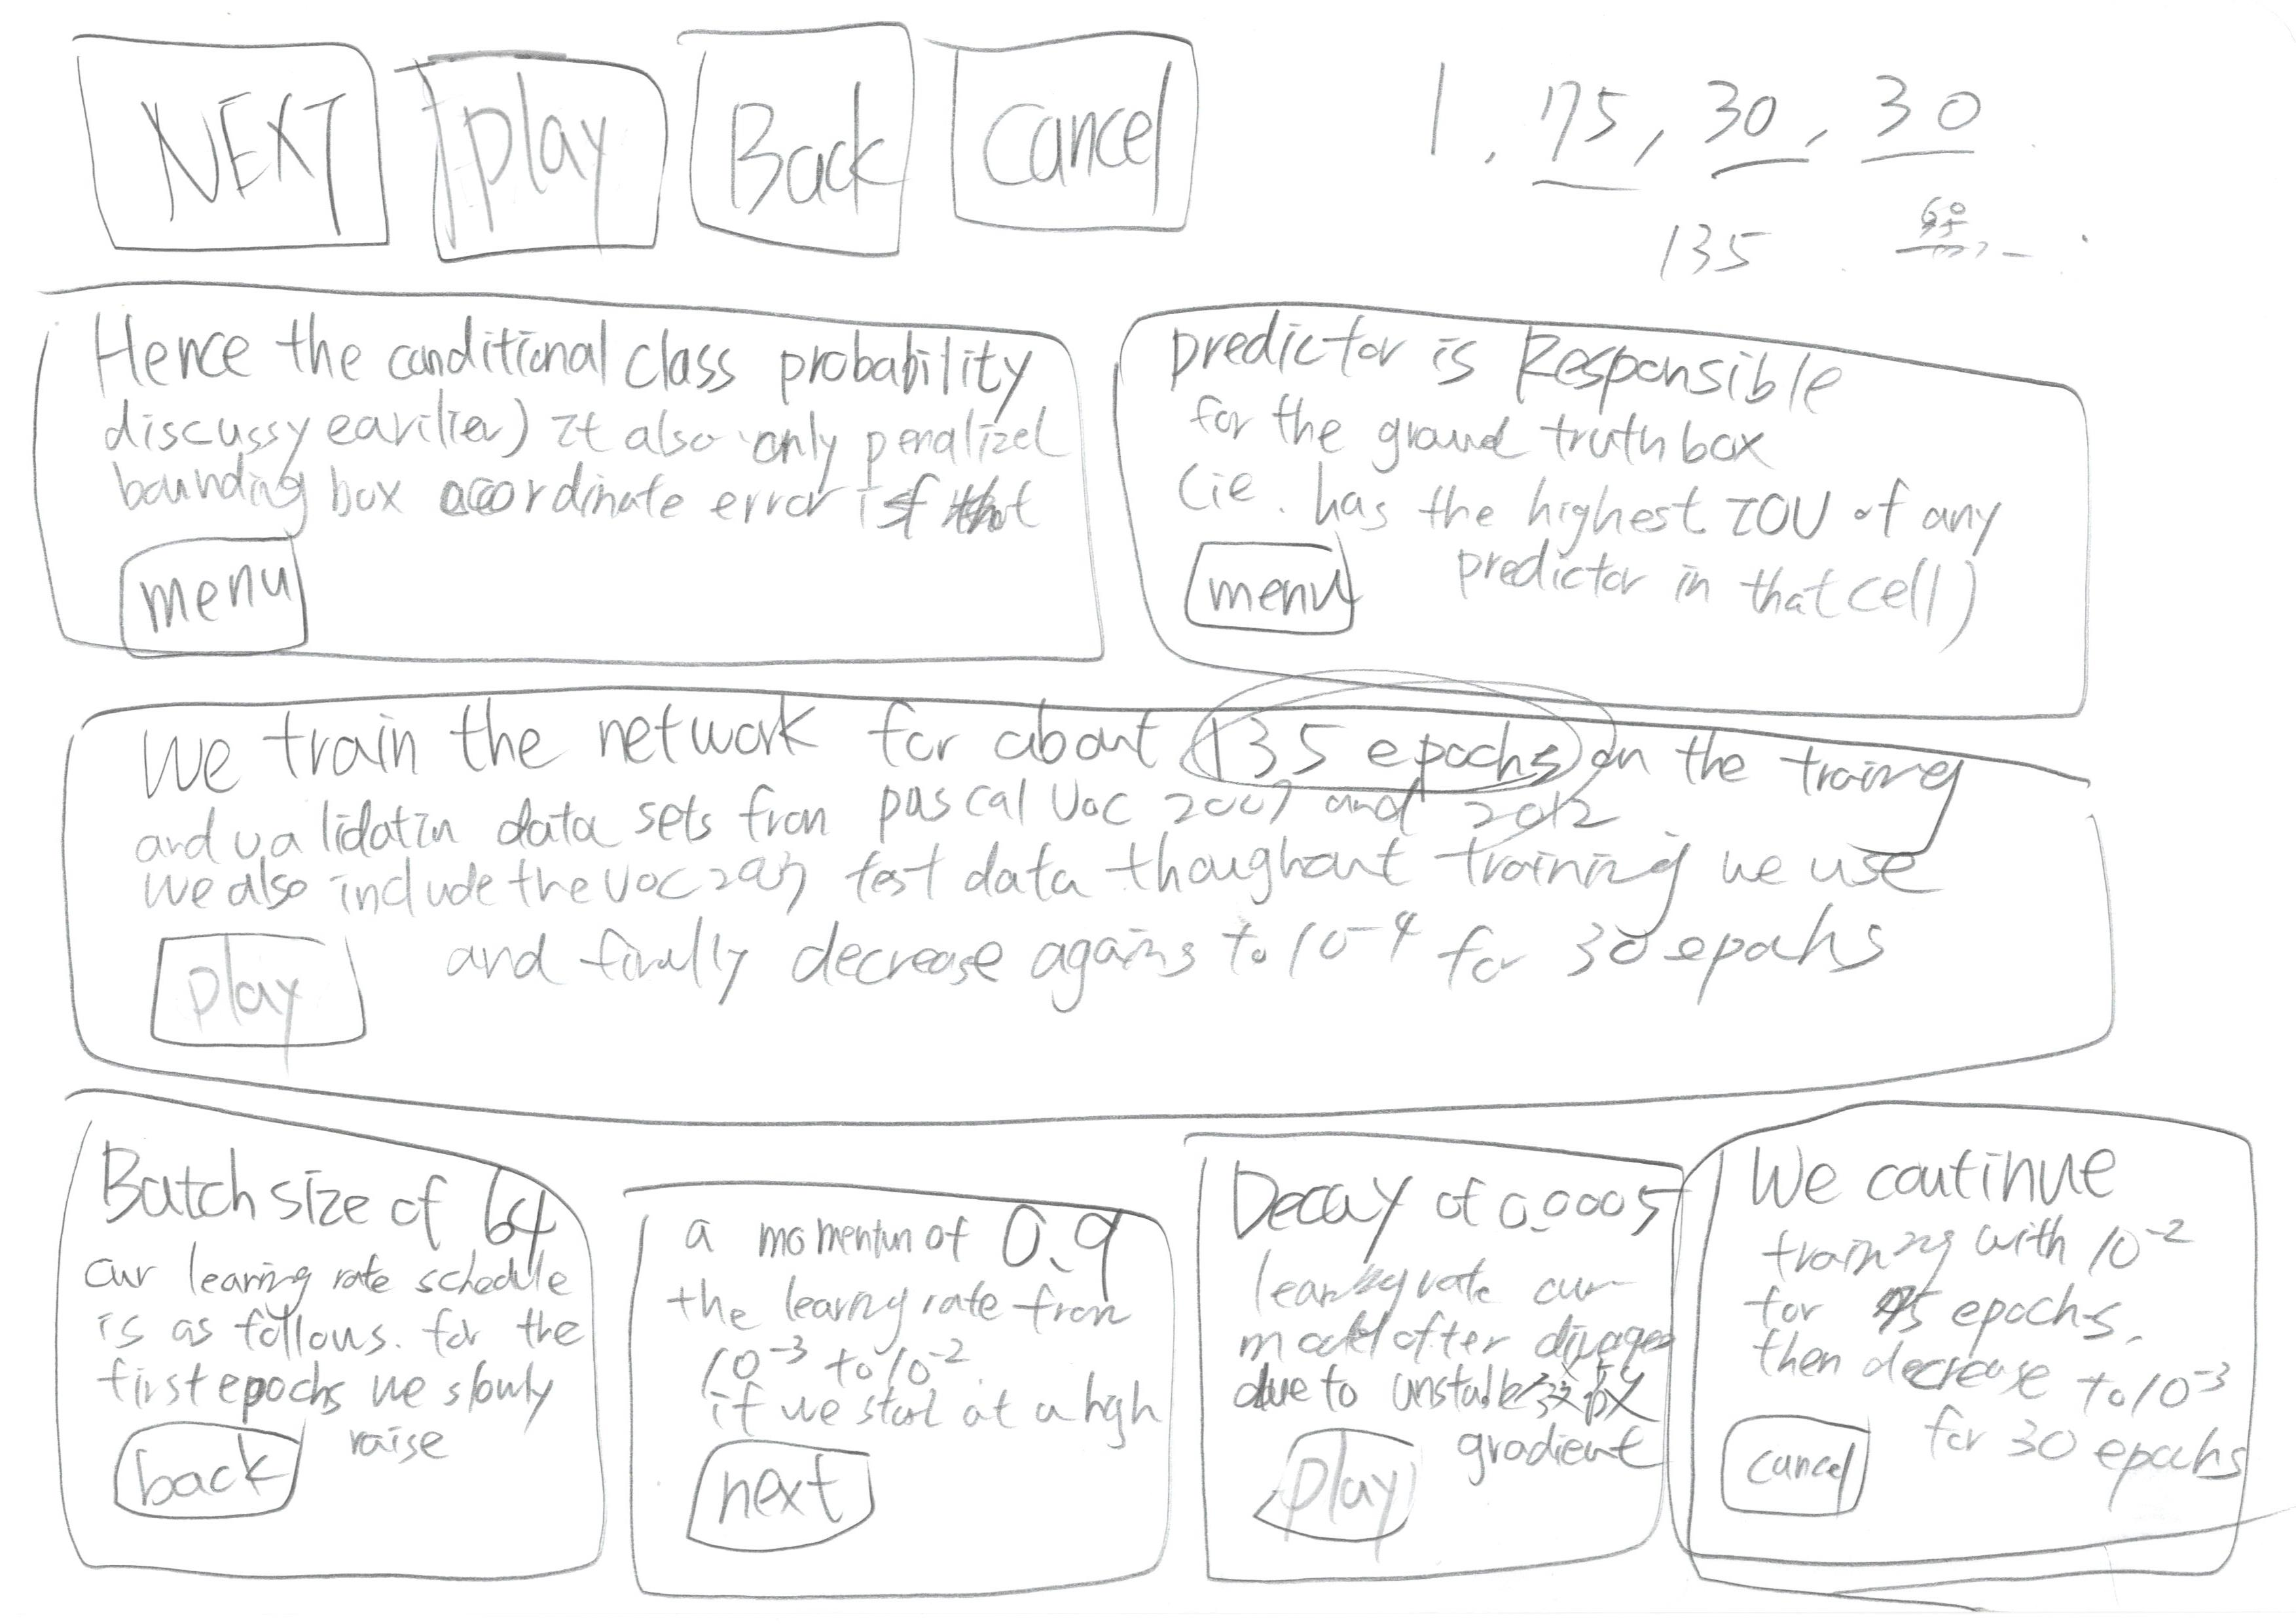back: (666, 4, 942, 285), (77, 1413, 327, 1543)
cancel: (918, 0, 1229, 274), (1700, 1394, 1902, 1547)
double: (1083, 278, 2222, 721), (2, 265, 1127, 689)
menu: (84, 513, 336, 668), (1162, 529, 1403, 652)
next: (35, 16, 413, 278), (665, 1425, 923, 1577)
play: (373, 23, 686, 285), (102, 924, 403, 1074), (1229, 1406, 1445, 1575)
quadruple: (1656, 1086, 2296, 1624), (35, 1076, 626, 1624), (599, 1137, 1197, 1624), (1167, 1116, 1691, 1605)
row: (26, 1076, 2296, 1620), (0, 257, 2263, 740), (33, 670, 2287, 1132), (12, 5, 2296, 283)
single: (0, 680, 2296, 1139)
small-title: (121, 721, 1962, 807), (90, 315, 1050, 424), (1152, 311, 1846, 431), (105, 1162, 543, 1255), (665, 1200, 1125, 1287), (1746, 1139, 2141, 1206), (1197, 1155, 1419, 1244)
text: (1183, 385, 2001, 627), (403, 891, 1916, 1004), (104, 814, 1902, 903), (1354, 47, 2027, 255), (83, 390, 1060, 526), (1739, 1216, 2240, 1403), (654, 1262, 1134, 1448), (84, 1251, 575, 1418), (1429, 1172, 1672, 1489), (1234, 1257, 1649, 1427), (1913, 1325, 2252, 1513)
